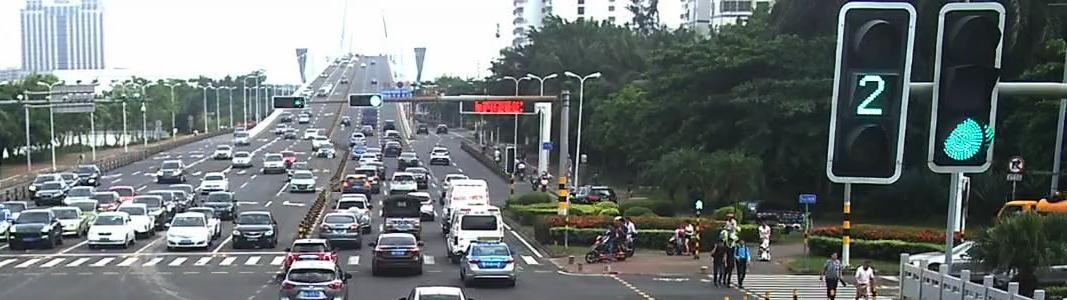green: (934, 117, 987, 164), (368, 93, 381, 107)
greenleft: (292, 97, 303, 109)
greenpeople: (692, 199, 706, 210)
greentime: (854, 69, 893, 119)
